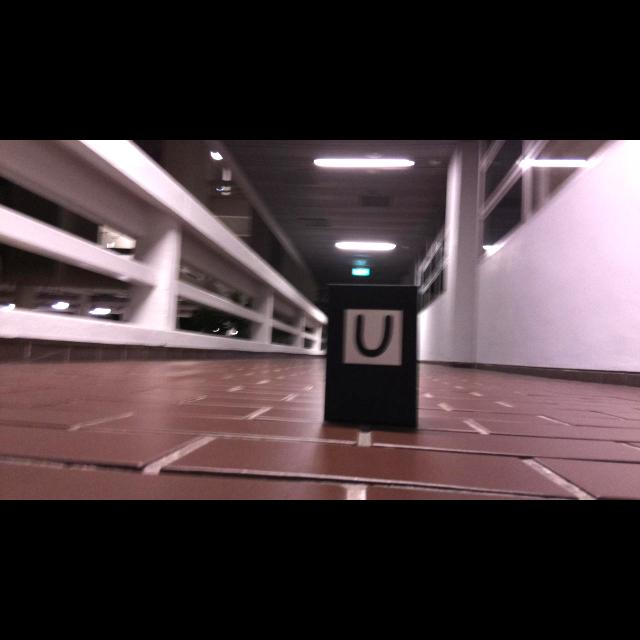U: (356, 314, 390, 356)
